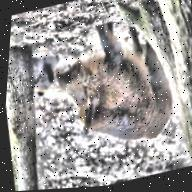boar: (41, 8, 185, 162)
